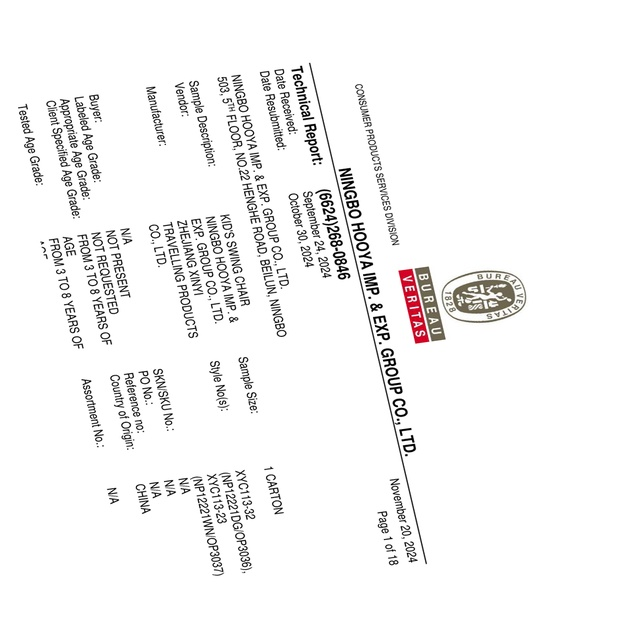bureau_veritas: (400, 264, 524, 343)
